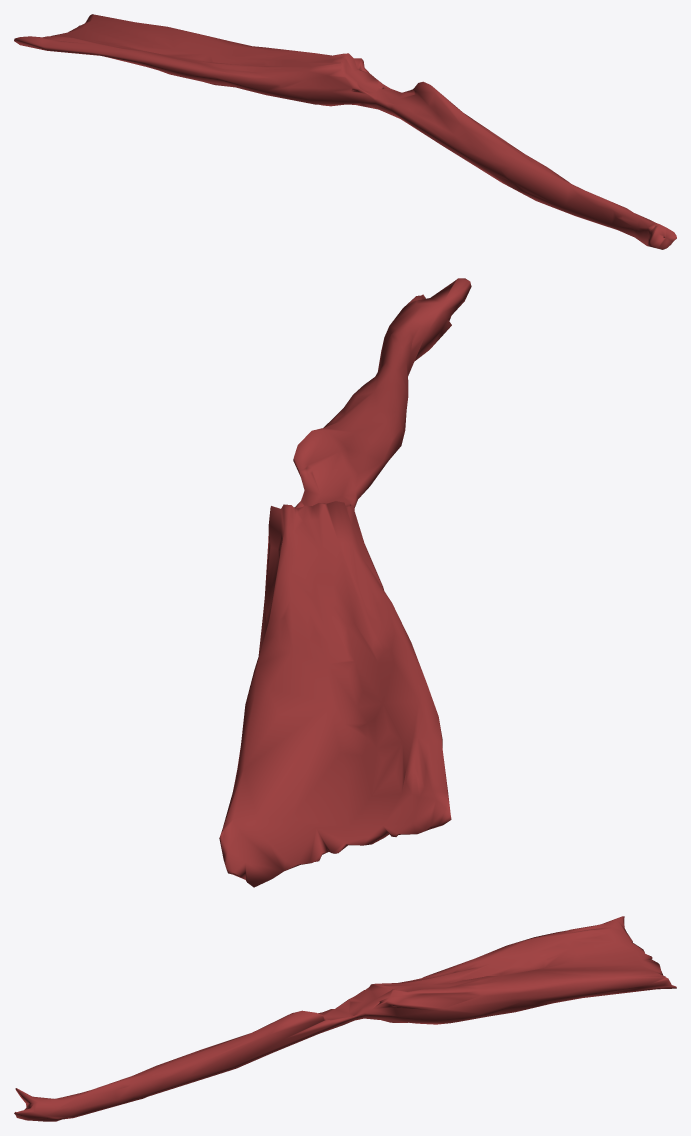
Rendered from abductor-digiti-minimi-of-foot-l.glb.
The picture shows the model from 3 angles, top to bottom: view 1: azimuth 30°, elevation 25°; view 2: azimuth 150°, elevation 25°; view 3: azimuth 270°, elevation 25°; orthographic projection. The views are drawn at different scales.
Visible parts, largest first — view 1: Abductor digiti minimi of foot.l; view 2: Abductor digiti minimi of foot.l; view 3: Abductor digiti minimi of foot.l.
Boxes of the visible parts, box(x1,y1,x2,y2) form: Abductor digiti minimi of foot.l: box(14, 14, 676, 249); Abductor digiti minimi of foot.l: box(219, 278, 471, 887); Abductor digiti minimi of foot.l: box(14, 916, 676, 1121).
Size of the model in its own units: 0.071 by 0.0165 by 0.1274.
